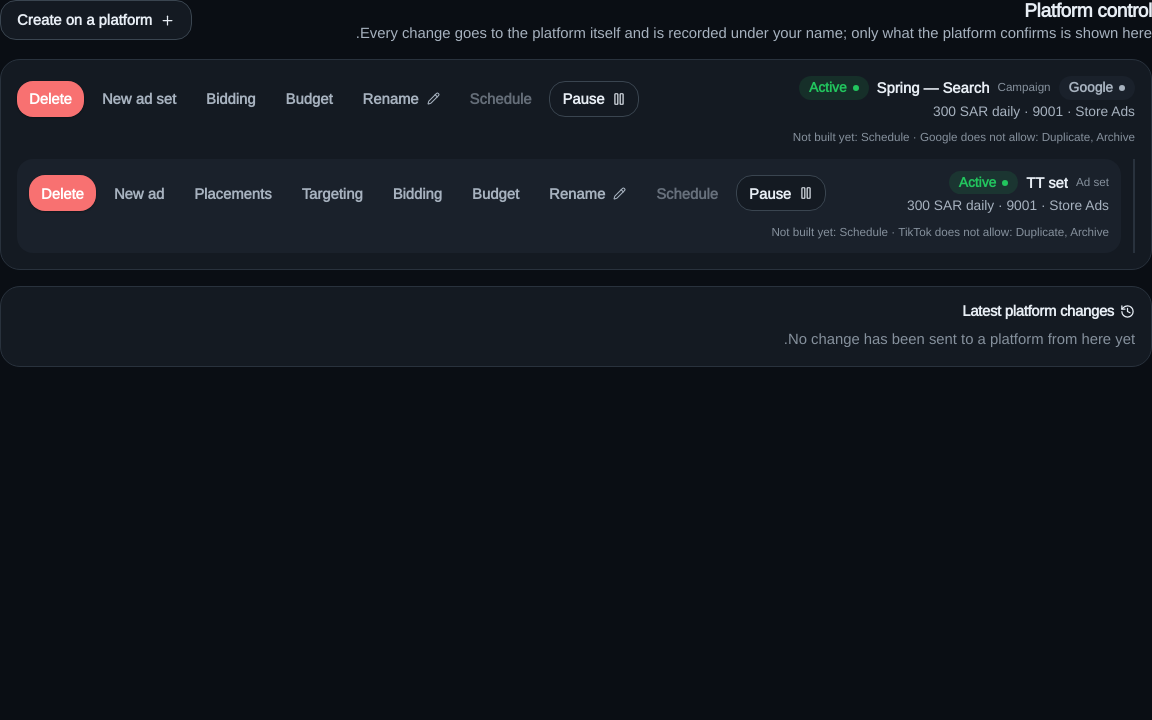
Test: the campaign control panel › tells a TikTok targeting edit that age comes in fixed bands
Click the button with test id "control-targeting-s3" at point(332, 193), box [290, 175, 375, 211]
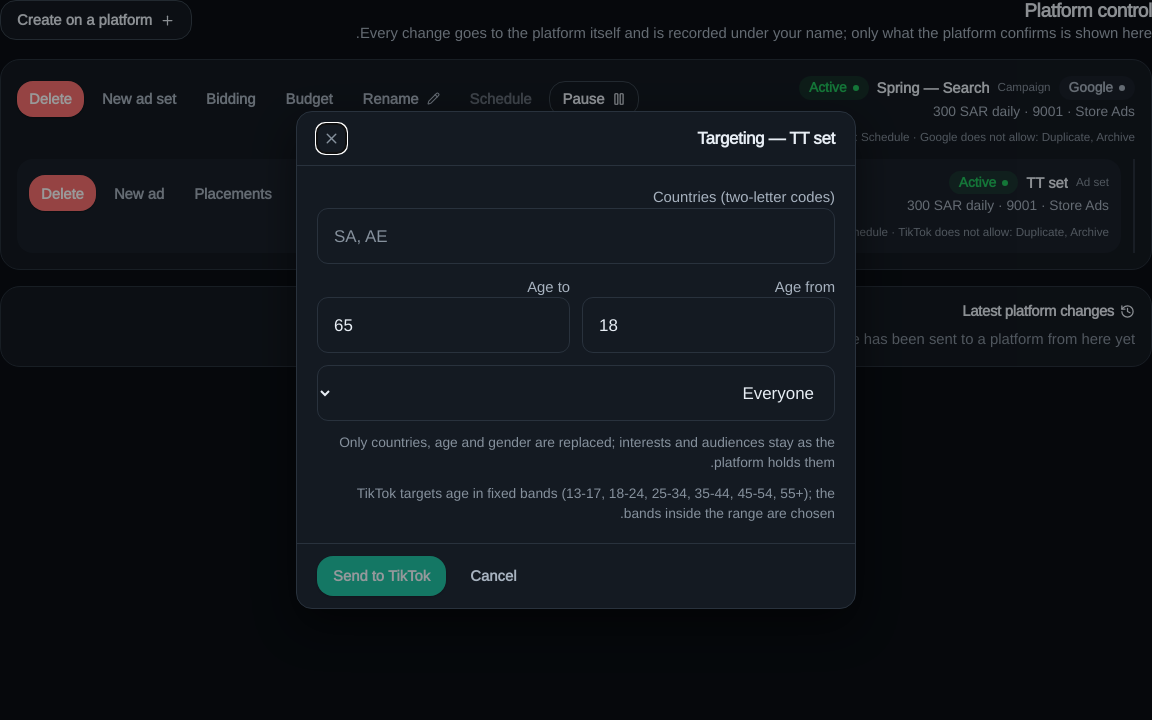
expect the text with test id "control-tiktok-age-bands" shows "fixed bands": met, box [357, 485, 835, 521]
